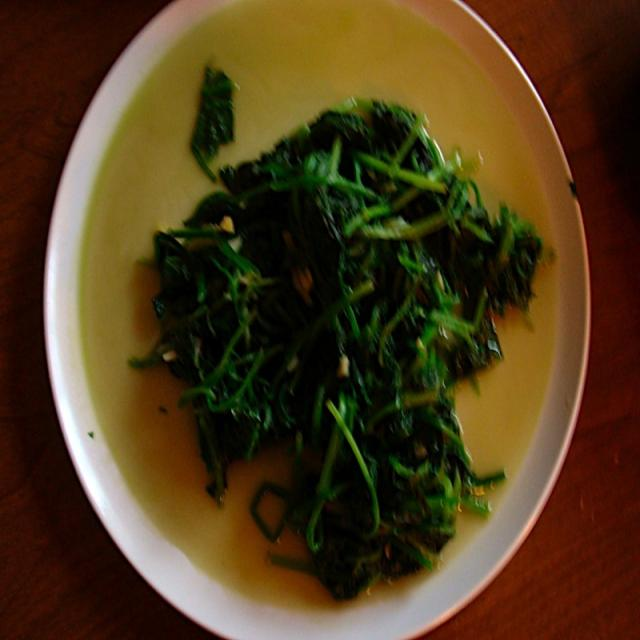蔬菜料理: (82, 0, 592, 640)
